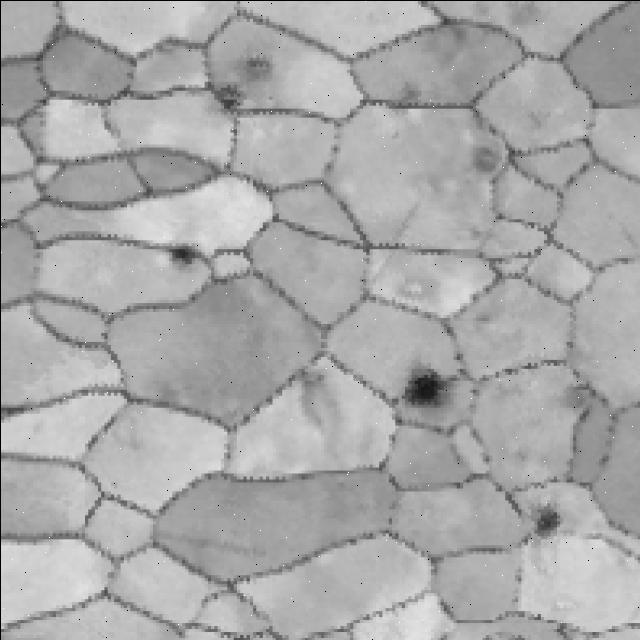good_void: (292, 368, 348, 438), (396, 358, 455, 413), (555, 380, 616, 421), (523, 500, 569, 546), (207, 80, 251, 118), (467, 138, 506, 180), (233, 51, 274, 88), (166, 238, 203, 270)
